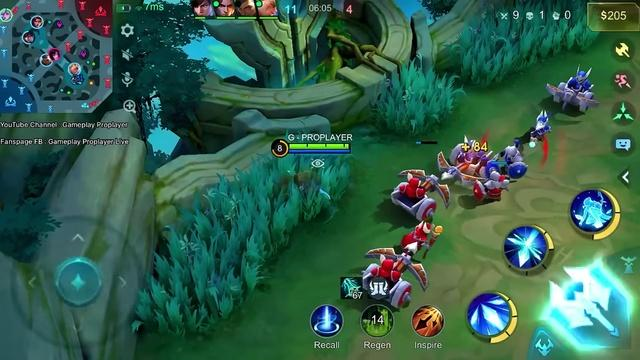Adc_Aliado: (0, 8, 13, 22)
Arbusto: (135, 154, 348, 334), (449, 0, 598, 86), (373, 57, 463, 135)
Esbirro_Aliado: (363, 243, 426, 307), (391, 171, 448, 219), (403, 221, 442, 250), (473, 171, 509, 199)
Esbirro_Enemigo: (437, 141, 492, 185), (546, 69, 598, 111), (498, 138, 527, 178), (534, 110, 550, 134)
Exp_Aliado: (68, 61, 82, 77)
HP_Heroe_Principal: (288, 143, 351, 149)
Hechizo_Batalla: (411, 305, 443, 336)
Jungla_Aliado: (40, 54, 53, 68)
Mana: (289, 149, 351, 154)
Mid_Aliado: (20, 30, 35, 44)
Mid_Enemigo: (47, 48, 61, 62)
Minimapa: (0, 0, 113, 114)
Miya: (295, 171, 330, 200)
Roamer_Aliado: (30, 13, 44, 30)
Skill1: (467, 292, 517, 343)
Skill2: (504, 226, 548, 269)
Skill3: (570, 189, 619, 239)
